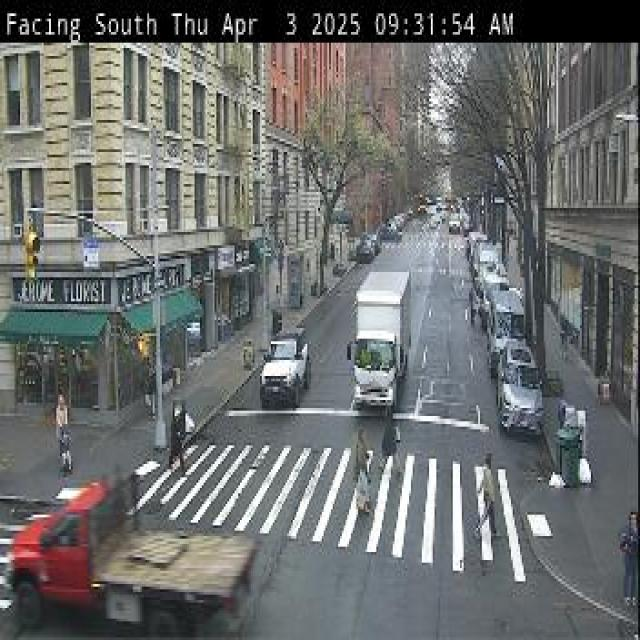parkedCars: (468, 233, 558, 441)
